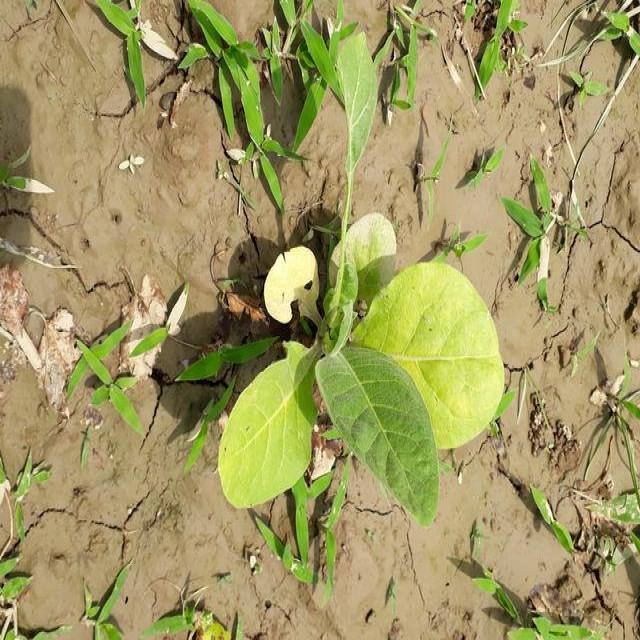crop: (213, 205, 506, 533)
